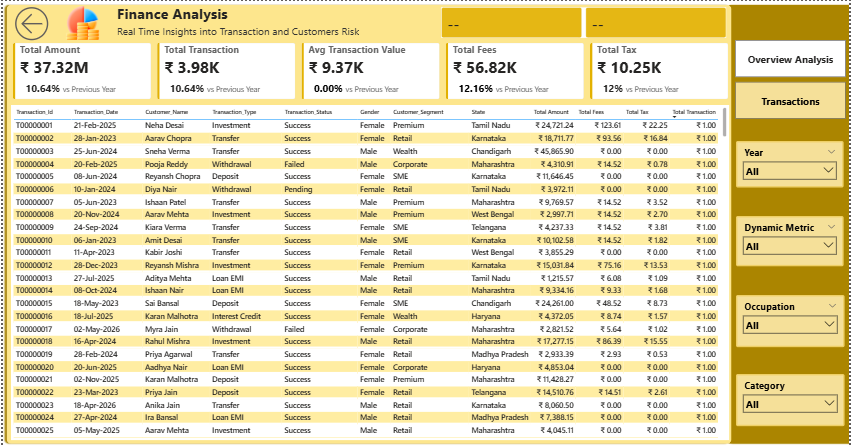

This screenshot's page, from the dashboard's own definition file:
{"tool":"powerbi","page":{"name":"Transactions","canvas":[1800,950],"ordinal":1},"visuals":[{"type":"shape","box":[1518.9,0,415,949.6],"z":0},{"type":"shape","box":[0,0,1558,950],"z":1000},{"type":"cardVisual","fields":{"Data":["finance_transactions.Dashboard Title"]},"box":[226,0,576,82],"z":2000},{"type":"cardVisual","fields":{"Data":["finance_transactions.Total Amount","finance_transactions.Total Transaction","finance_transactions.Avg Total Value","finance_transactions.Total Fees","finance_transactions.Total Tax"]},"box":[15.7,82.9,1534.3,132.9],"z":3000},{"type":"shape","box":[16.1,223.2,1520,710],"z":4000},{"type":"cardVisual","fields":{"Data":["finance_transactions.Selected Year","finance_transactions.Selected Dynamic Measure"]},"box":[927.5,7.8,617.8,75],"z":5000},{"type":"tableEx","fields":{"Values":["finance_transactions.transaction_id","finance_transactions.transaction_date","customers.Customer_name","finance_transactions.transaction_type","finance_transactions.transaction_status","customers.gender","customers.customer_segment","customers.state","finance_transactions.Total Amount","finance_transactions.Total Fees","finance_transactions.Total Tax","finance_transactions.Total Transaction"]},"box":[16.7,221.7,1528.3,712.5],"z":6000},{"type":"actionButton","box":[16.8,5,100,88],"z":7000},{"type":"slicer","fields":{"Values":["Calender.Year"]},"box":[1558.7,297.9,228.7,98.6],"z":8000},{"type":"slicer","fields":{"Values":["Dynamic Metric.Dynamic Metric"]},"box":[1558.7,457.3,228.7,107],"z":9000},{"type":"slicer","fields":{"Values":["customers.occupation"]},"box":[1558.7,625.2,230.8,111.2],"z":10000},{"type":"slicer","fields":{"Values":["finance_transactions.merchant_category"]},"box":[1558.7,793,230.8,111.2],"z":11000},{"type":"pageNavigator","box":[1557.1,82.8,236,169.5],"z":12000},{"type":"image","box":[124.3,10,91.4,72.1],"z":12001}]}

Visuals, with their boxes in screenshot pixels (x1, y1, x2, y2), scaled from the page's 1800x950 canvas onto the 851x447 screenshot:
shape: <box>718,0,850,446</box>
shape: <box>0,0,737,446</box>
cardVisual - finance_transactions.Dashboard Title: <box>107,0,379,39</box>
cardVisual - finance_transactions.Total Amount x finance_transactions.Total Transaction: <box>7,39,733,102</box>
shape: <box>8,105,726,439</box>
cardVisual - finance_transactions.Selected Year x finance_transactions.Selected Dynamic Measure: <box>439,4,731,39</box>
tableEx - finance_transactions.transaction_id x finance_transactions.transaction_date: <box>8,104,730,440</box>
actionButton: <box>8,2,55,44</box>
slicer - Calender.Year: <box>737,140,845,187</box>
slicer - Dynamic Metric.Dynamic Metric: <box>737,215,845,266</box>
slicer - customers.occupation: <box>737,294,846,346</box>
slicer - finance_transactions.merchant_category: <box>737,373,846,425</box>
pageNavigator: <box>736,39,848,119</box>
image: <box>59,5,102,39</box>
